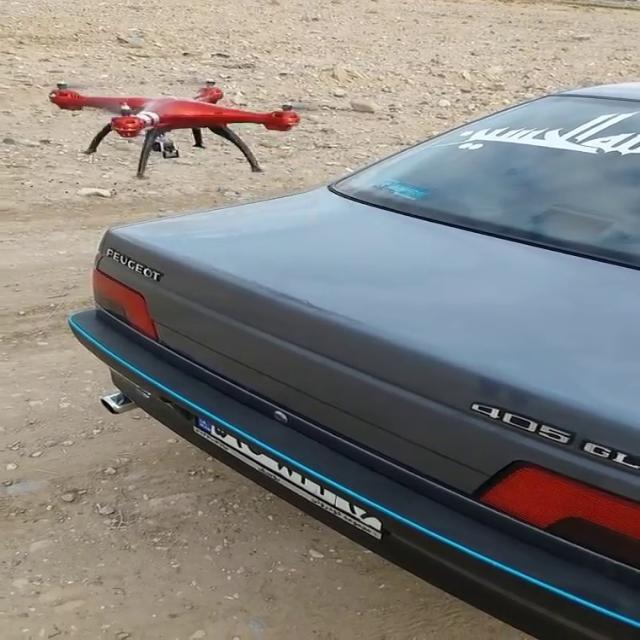drone: (31, 72, 331, 178)
